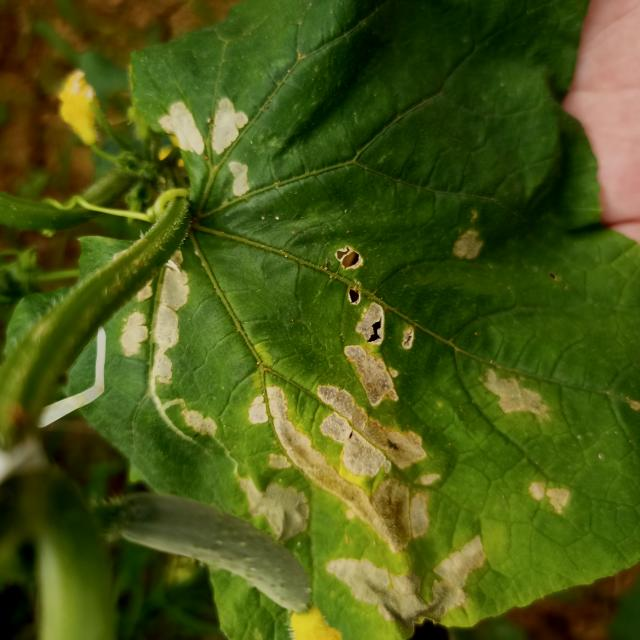disease_cucumber: (241, 245, 573, 620), (124, 91, 251, 439)
